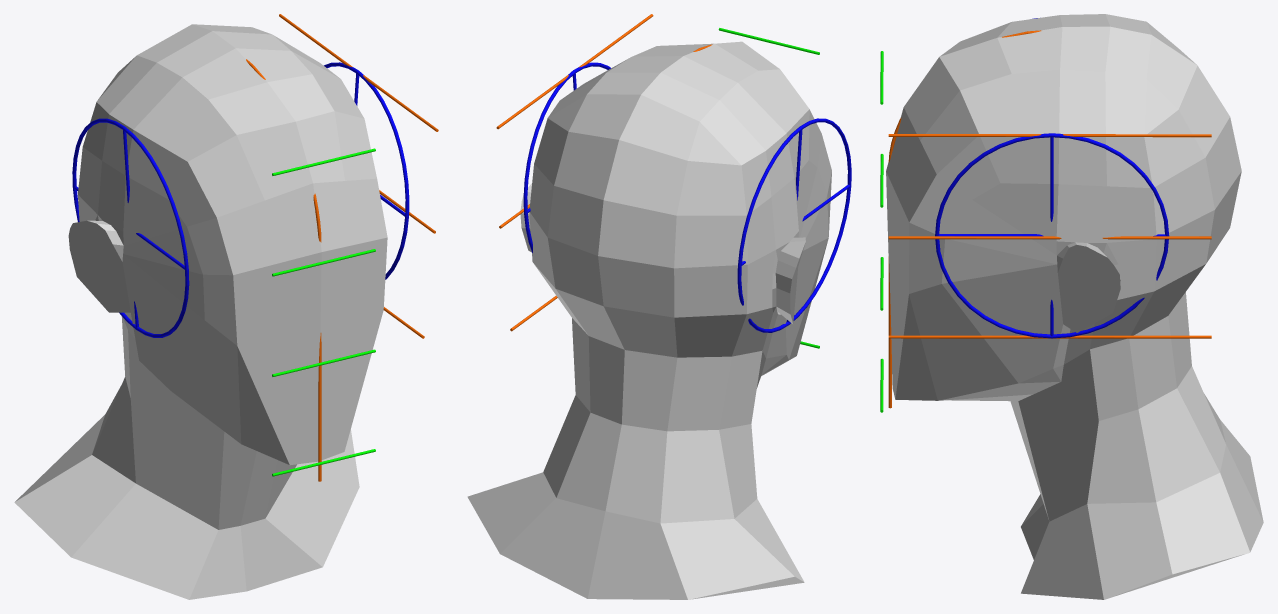
3 views of the same model, side by side, from view 1: azimuth 30°, elevation 25°; view 2: azimuth 150°, elevation 25°; view 3: azimuth 270°, elevation 25° (orthographic). The views are drawn at different scales.
Visible parts, largest first — view 1: Model, Right_Side_Plane_Guide, Left_Side_Plane_Guide, Front_Face_Guide, Side_Plane_Horizontal_Top_Guide; view 2: Model, Right_Side_Plane_Guide, Left_Side_Plane_Guide, Side_Plane_Horizontal_Top_Guide; view 3: Model, Left_Side_Plane_Guide, Side_Plane_Horizontal_Bottom_Guide, Side_Plane_Horizontal_Middle_Guide, Side_Plane_Horizontal_Top_Guide, Front_Face_Guide.
Part boxes in pixels (bbox=[...]): Model: bbox=[14, 24, 387, 599]; Right_Side_Plane_Guide: bbox=[72, 118, 189, 337]; Left_Side_Plane_Guide: bbox=[324, 62, 409, 279]; Front_Face_Guide: bbox=[313, 193, 321, 481]; Side_Plane_Horizontal_Top_Guide: bbox=[279, 14, 438, 131]; Model: bbox=[467, 41, 831, 599]; Right_Side_Plane_Guide: bbox=[737, 118, 851, 332]; Left_Side_Plane_Guide: bbox=[523, 62, 610, 252]; Side_Plane_Horizontal_Top_Guide: bbox=[496, 14, 653, 129]; Model: bbox=[886, 14, 1263, 599]; Left_Side_Plane_Guide: bbox=[935, 133, 1169, 338]; Side_Plane_Horizontal_Bottom_Guide: bbox=[888, 335, 1211, 338]; Side_Plane_Horizontal_Middle_Guide: bbox=[888, 236, 1211, 239]; Side_Plane_Horizontal_Top_Guide: bbox=[888, 134, 1211, 137]; Front_Face_Guide: bbox=[888, 117, 901, 408].
Size of the model in its own units: 6.28 by 9.57 by 6.07.
